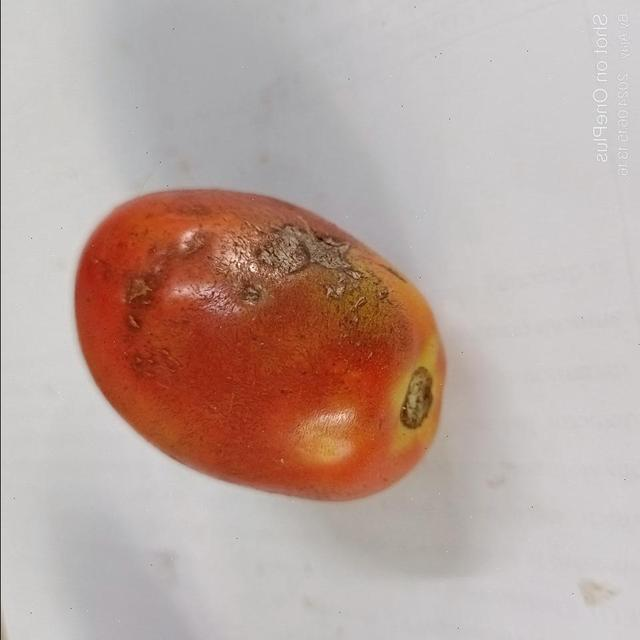Bacterial Spot Fruit: (146, 149, 232, 199)
